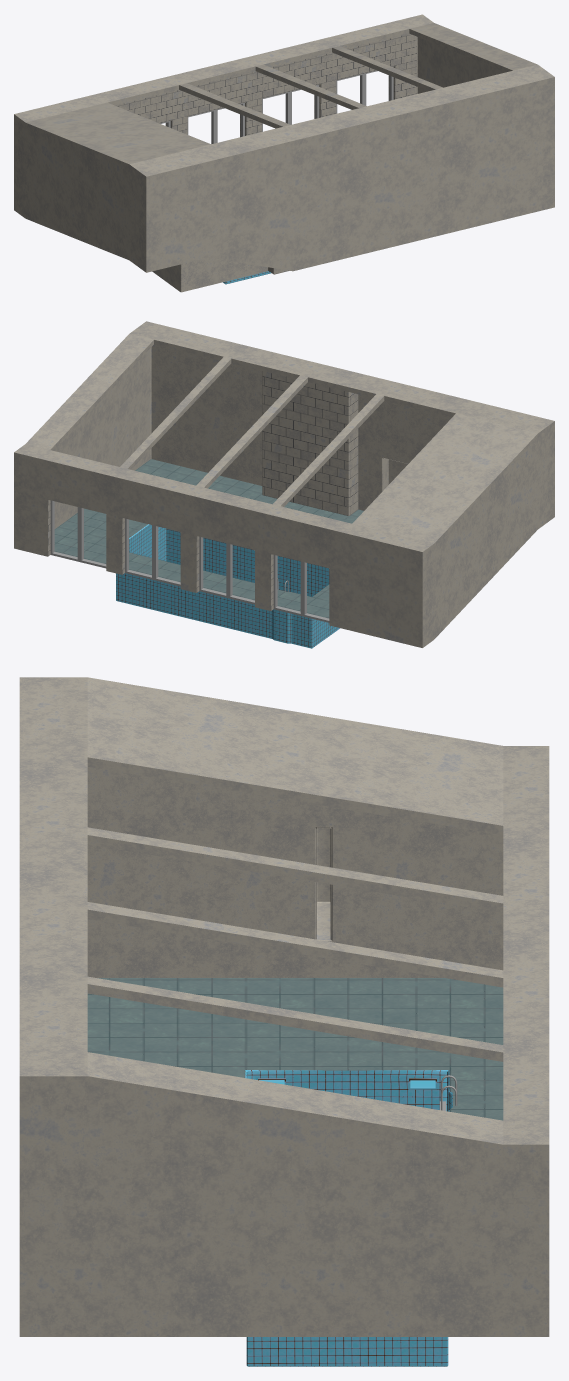
The model's file is Example_Interrior.fbx.
3 views of the same model, one above another, from view 1: azimuth 30°, elevation 25°; view 2: azimuth 150°, elevation 25°; view 3: azimuth 270°, elevation 25° (orthographic). The views are drawn at different scales.
Visible parts, largest first — view 1: polySurface8; view 2: polySurface8; view 3: polySurface8.
Part boxes in pixels (bbox=[...]): polySurface8: bbox=[14, 14, 554, 292]; polySurface8: bbox=[14, 321, 554, 648]; polySurface8: bbox=[19, 677, 549, 1366].
Size of the model in its own units: 1872 by 800 by 1050.
Materials: 6 (4 with a texture image).
